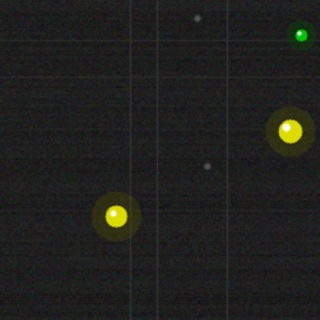green_normal: (293, 27, 309, 43)
yellow_warning: (276, 117, 304, 145), (103, 203, 129, 229)
